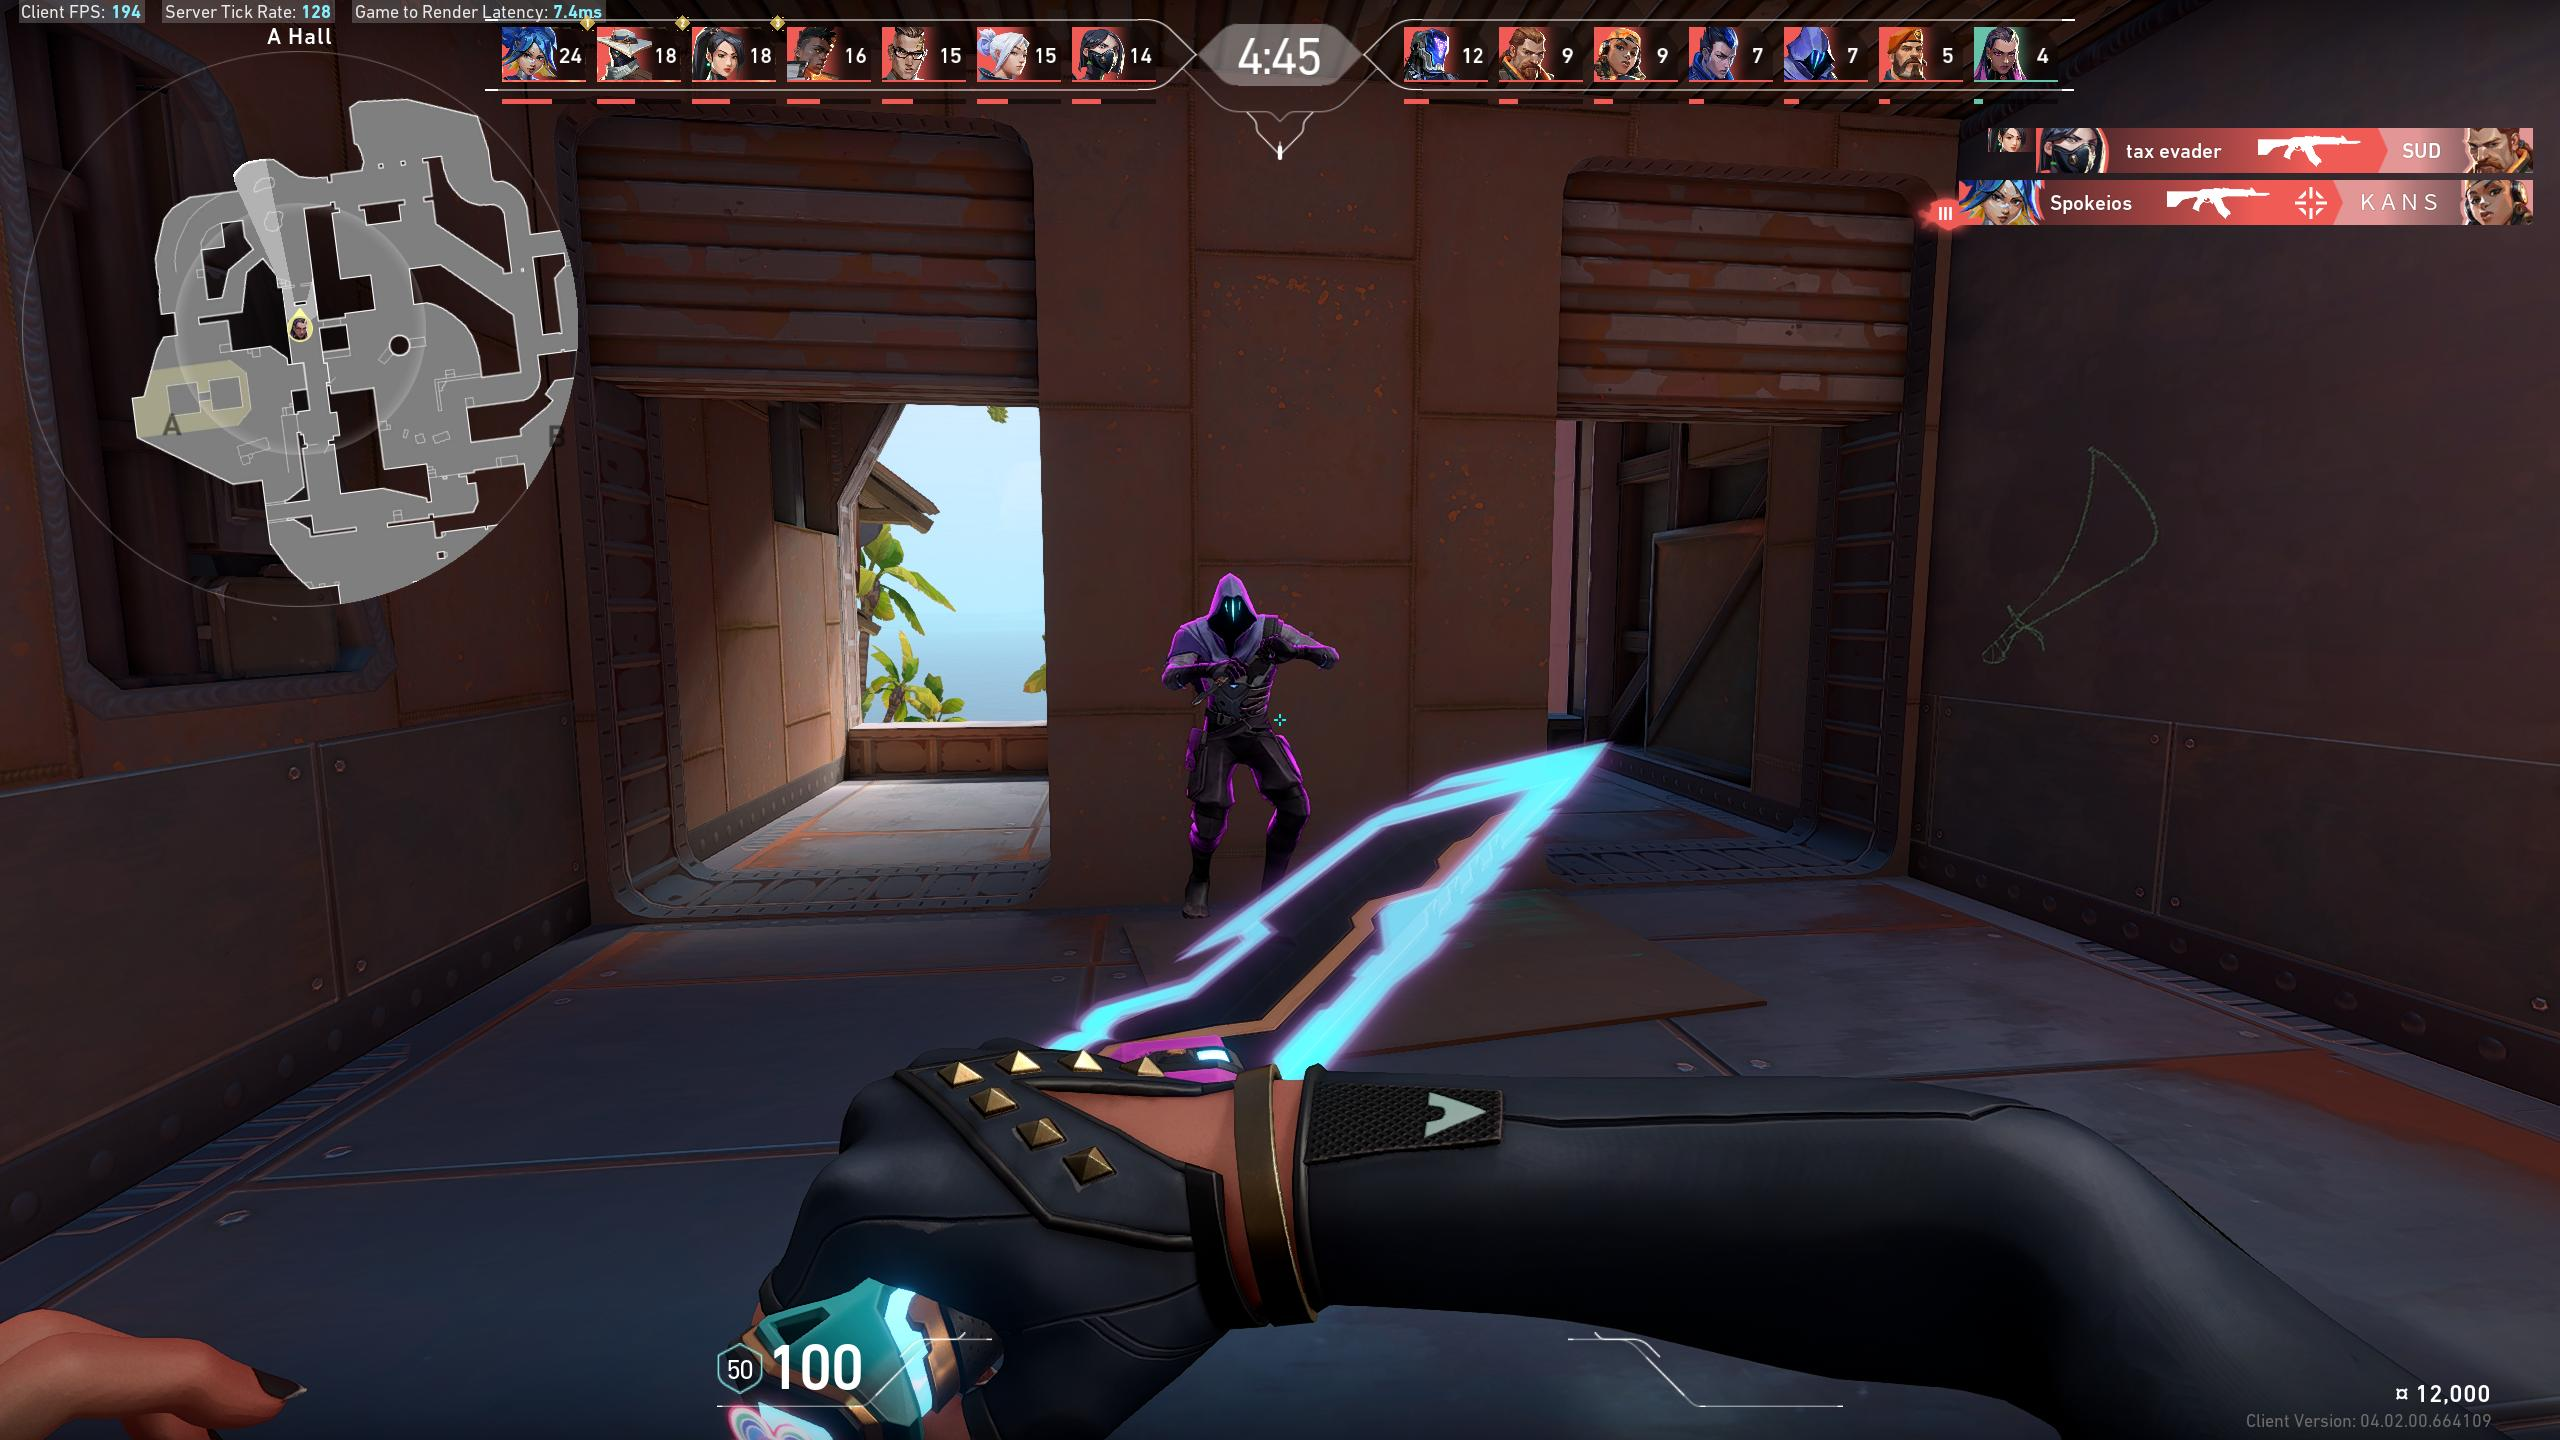enemyBody: (1210, 640, 1261, 730)
enemyHead: (1217, 593, 1248, 629)
